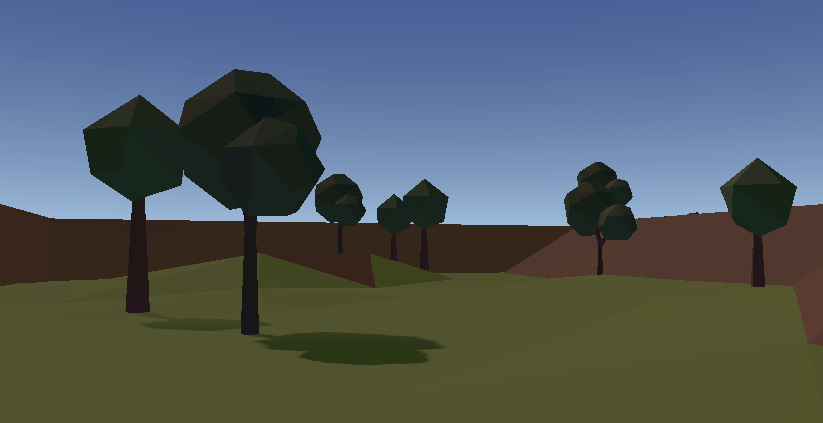tree: (181, 70, 324, 334), (82, 95, 185, 309), (720, 159, 798, 288), (563, 182, 636, 277), (311, 173, 369, 254), (405, 180, 450, 273), (574, 163, 634, 206), (376, 193, 409, 258)
